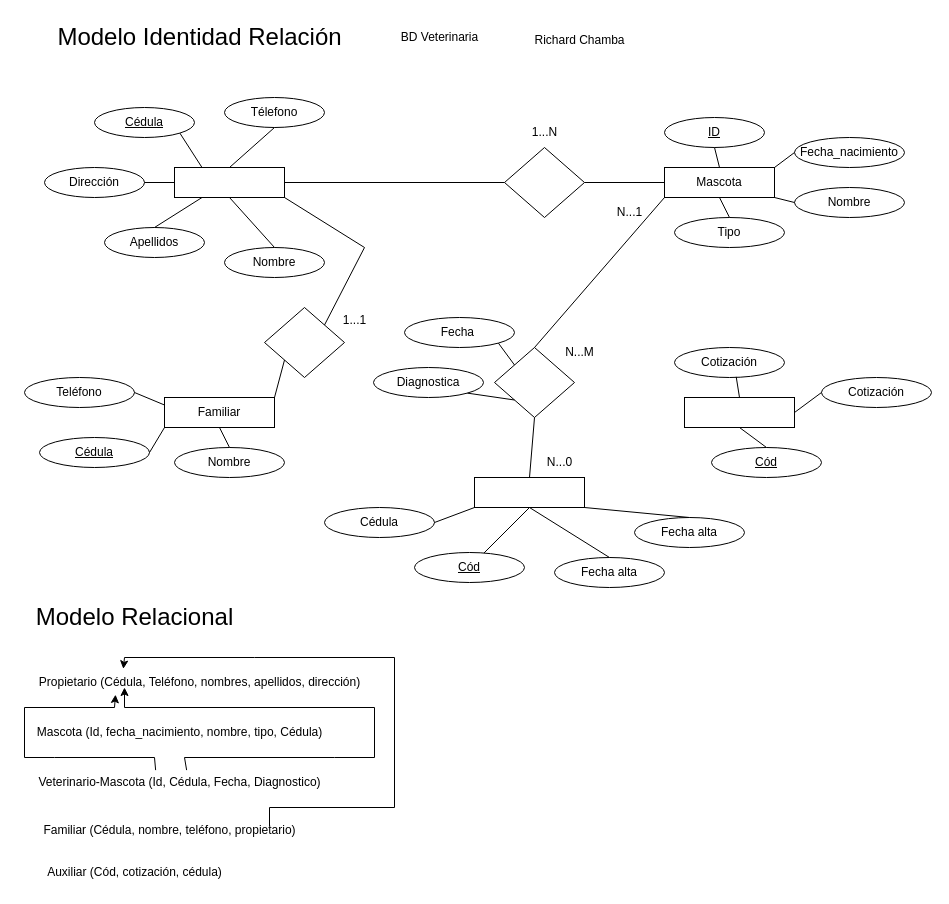
This 949x904 diagram has some shape labels left out. The centre of each missing label's shape, as x and y in pixels:
"Auxiliar" goes at (x=739, y=412).
"Consulta" goes at (x=534, y=382).
"Contacta" goes at (x=304, y=342).
"Llevar" goes at (x=544, y=182).
"Propietario" goes at (x=229, y=182).
"Veterinario" goes at (x=529, y=492).
